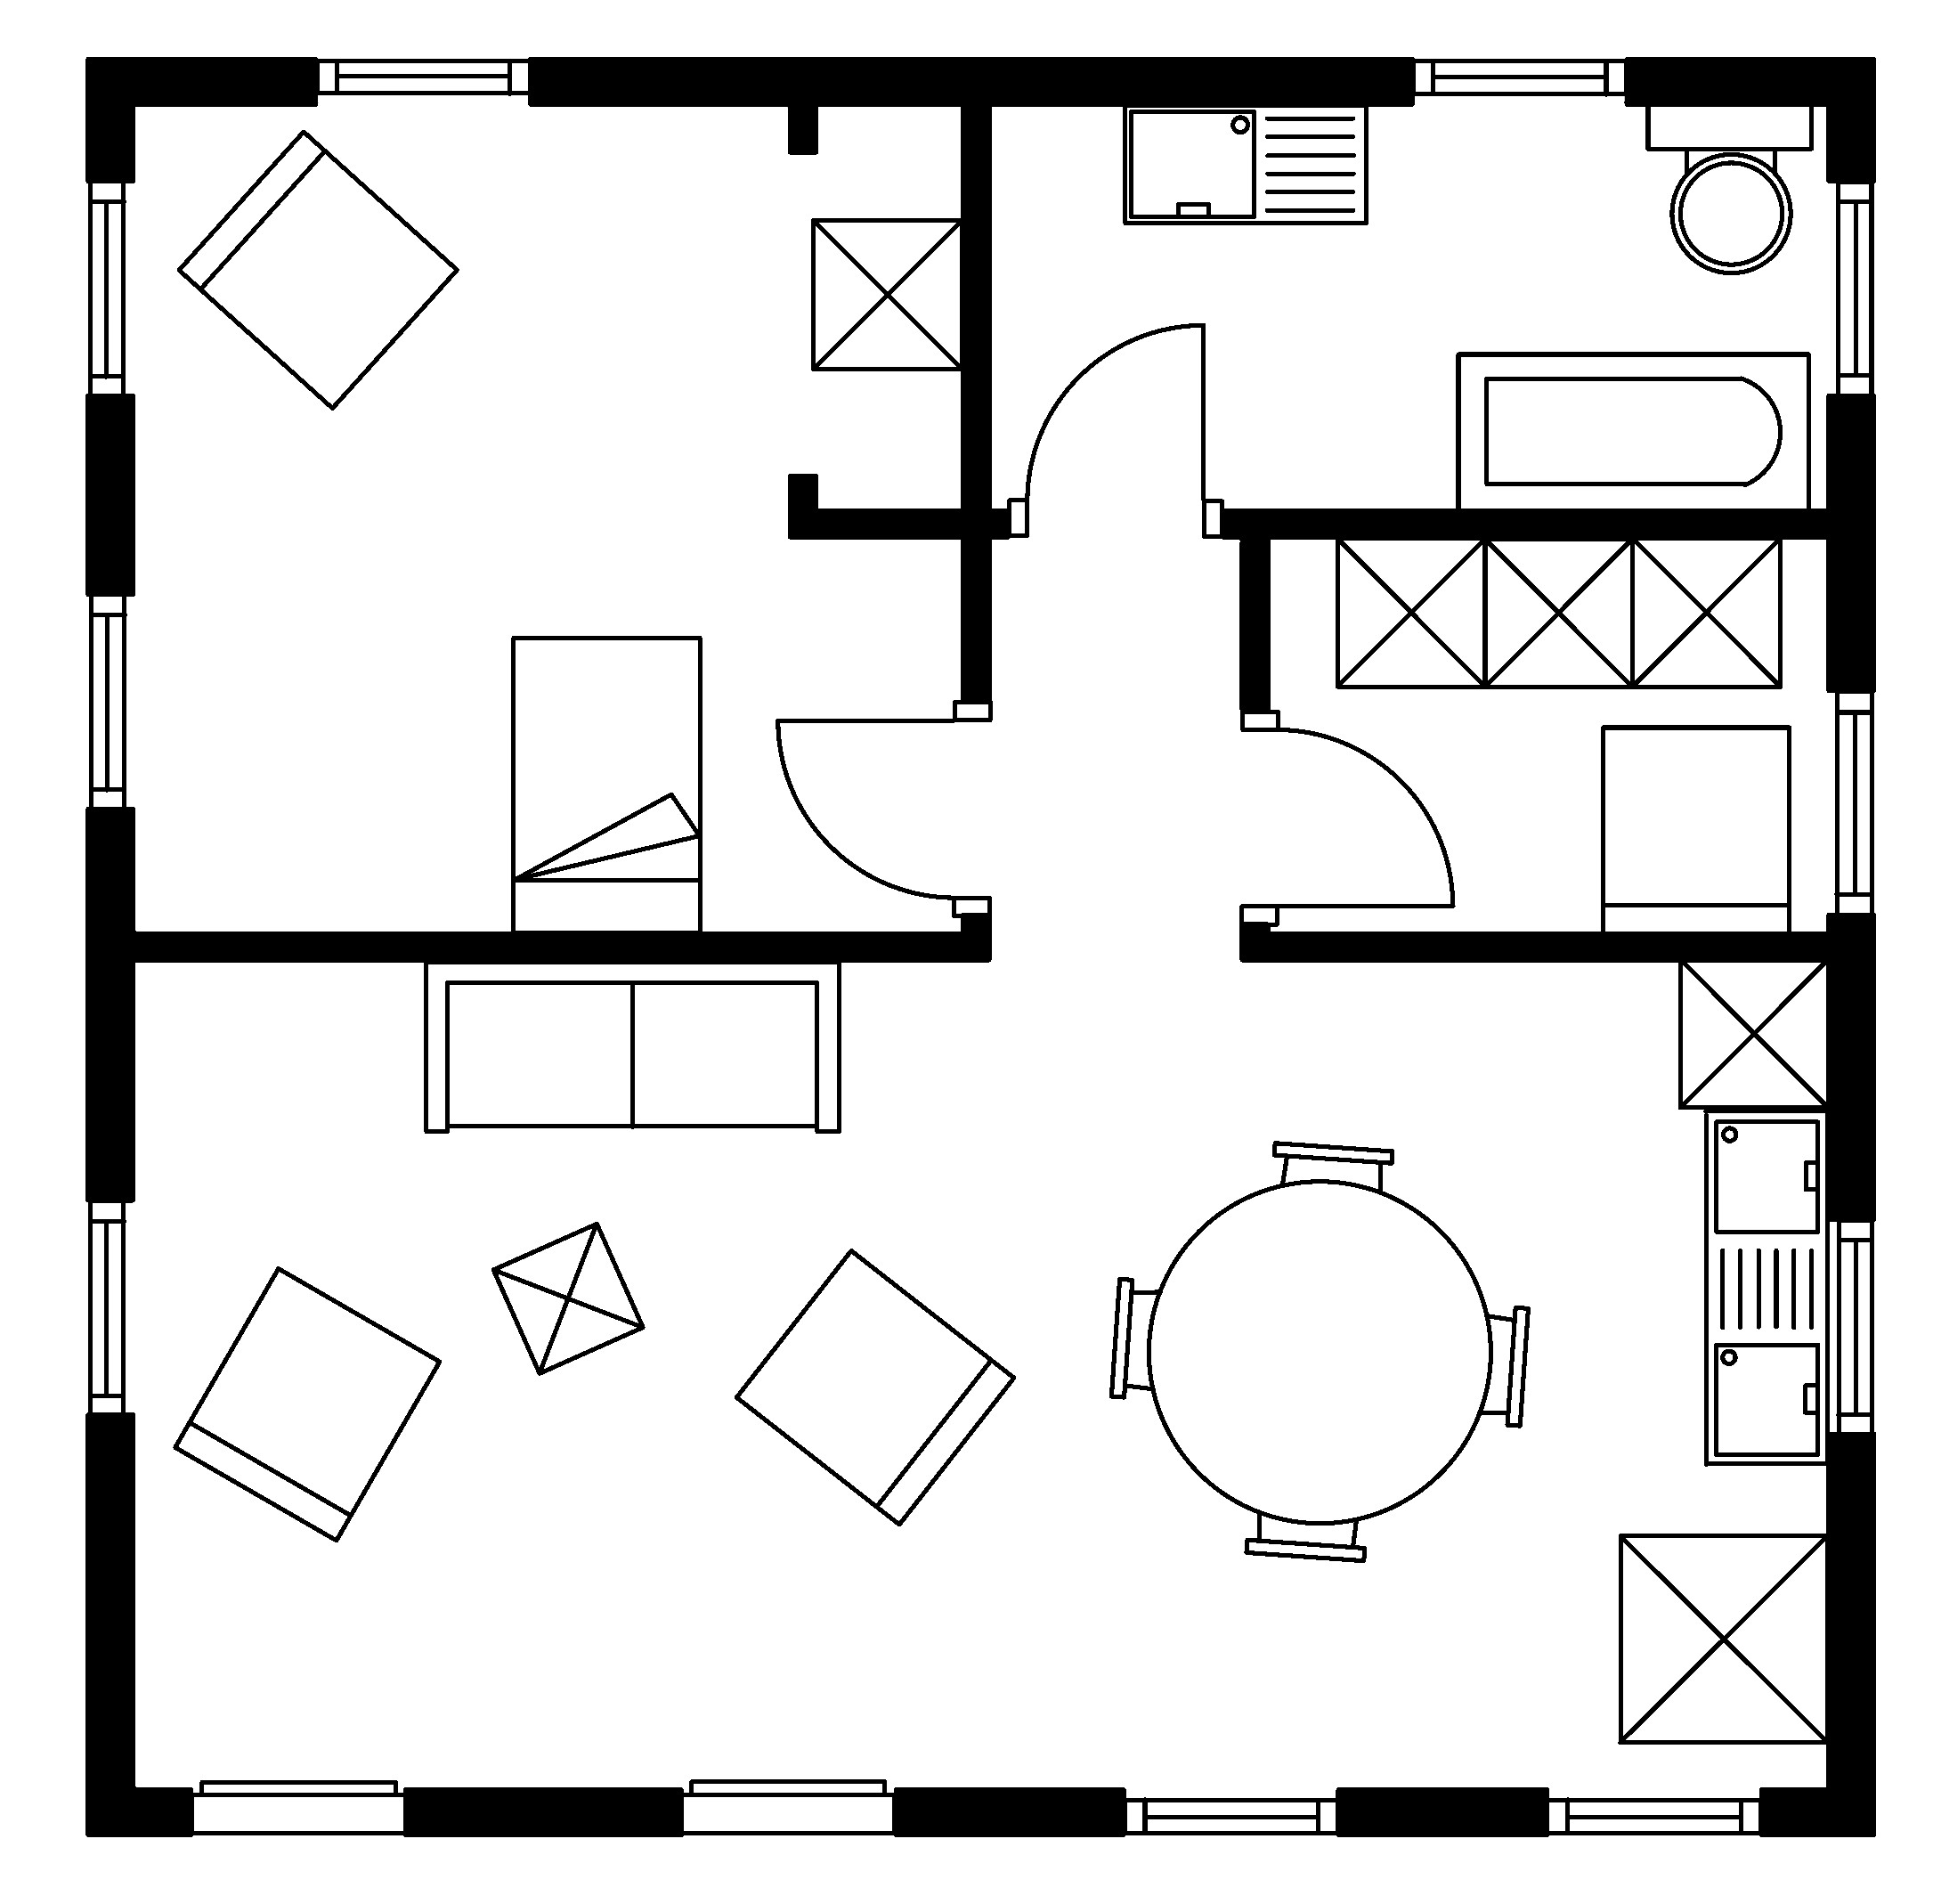bed: (509, 635, 704, 936)
coffee_table: (1616, 1533, 1830, 1745), (809, 216, 966, 371), (488, 1221, 645, 1376), (1480, 534, 1635, 689), (1628, 534, 1783, 689), (1333, 534, 1489, 689), (1675, 955, 1830, 1111)
large_sink: (1644, 101, 1814, 274)
large_sofa: (422, 959, 842, 1135)
round_table: (1107, 1139, 1530, 1564)
sink: (1121, 101, 1368, 225)
small_sofa: (174, 127, 460, 410), (732, 1247, 1016, 1527), (171, 1264, 443, 1543), (1598, 724, 1792, 936)
tub: (1454, 350, 1811, 513)
twin_sink: (1701, 1107, 1830, 1468)
